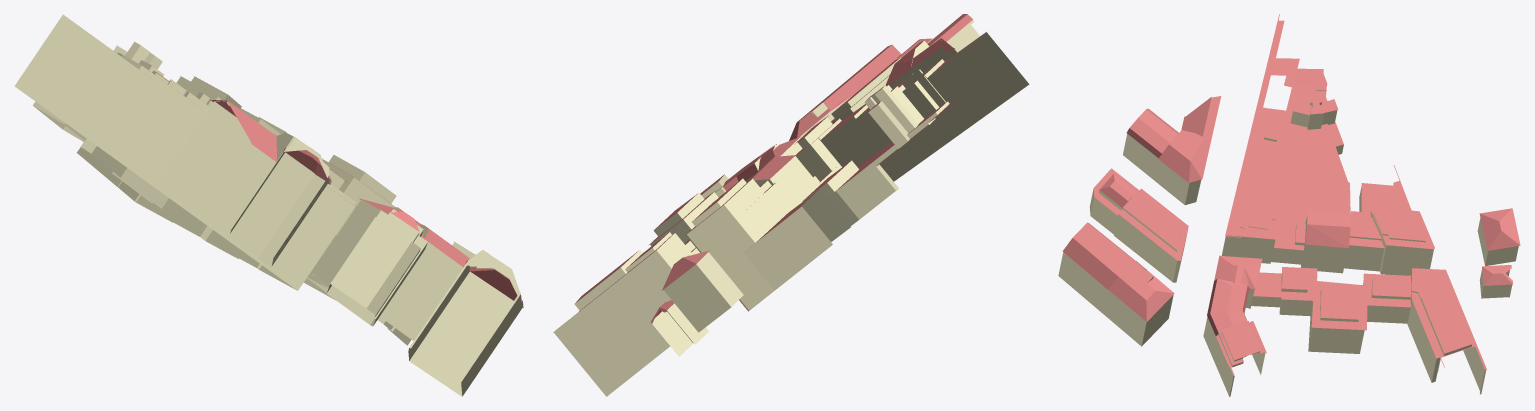
Rendered from tile_004.glb.
3 renders of one model, left to right at view 1: azimuth 30°, elevation 25°; view 2: azimuth 150°, elevation 25°; view 3: azimuth 270°, elevation 25°, orthographic. The views are drawn at different scales.
Parts seen in each view (by area): view 1: Batched_Building_ID_79E727D1-91AB-41C0-AD48-A60EC4A1F753; view 2: Batched_Building_ID_79E727D1-91AB-41C0-AD48-A60EC4A1F753; view 3: Batched_Building_ID_79E727D1-91AB-41C0-AD48-A60EC4A1F753.
Part boxes in pixels (left/top/right/bottom): Batched_Building_ID_79E727D1-91AB-41C0-AD48-A60EC4A1F753: left=14, top=14, right=523, bottom=396; Batched_Building_ID_79E727D1-91AB-41C0-AD48-A60EC4A1F753: left=553, top=14, right=1029, bottom=396; Batched_Building_ID_79E727D1-91AB-41C0-AD48-A60EC4A1F753: left=1058, top=14, right=1520, bottom=396.
Size of the model in its own units: 135 by 121 by 183.
